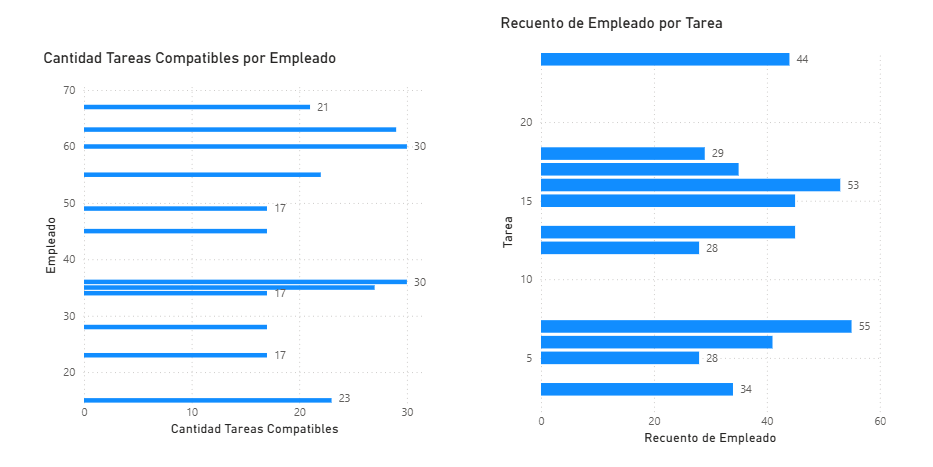

The page's visual inventory and layout, read from the dashboard file:
{"tool":"powerbi","page":{"name":"Página 2","canvas":[1280,720],"ordinal":1},"visuals":[{"type":"clusteredBarChart","fields":{"Category":["Sheet80.Empleado"],"Y":["Sheet80.Cantidad Tareas Compatibles"]},"box":[13.4,260.4,441.8,435.1],"z":0},{"type":"clusteredBarChart","fields":{"Category":["Sheet80.Tarea"],"Y":["CountNonNull(Sheet80.Empleado)"]},"box":[640,236.9,438.4,483.8],"z":1000}]}

Visuals, with their boxes on the page's 1280x720 design canvas (x1, y1, x2, y2). These are canvas units, not pixel positions in the 933x467 screenshot, which may show the page scaled, cropped or inside an application window:
clusteredBarChart - Sheet80.Empleado x Sheet80.Cantidad Tareas Compatibles: pyautogui.locateOnScreen(13, 260, 455, 696)
clusteredBarChart - Sheet80.Tarea x CountNonNull(Sheet80.Empleado): pyautogui.locateOnScreen(640, 237, 1078, 721)
